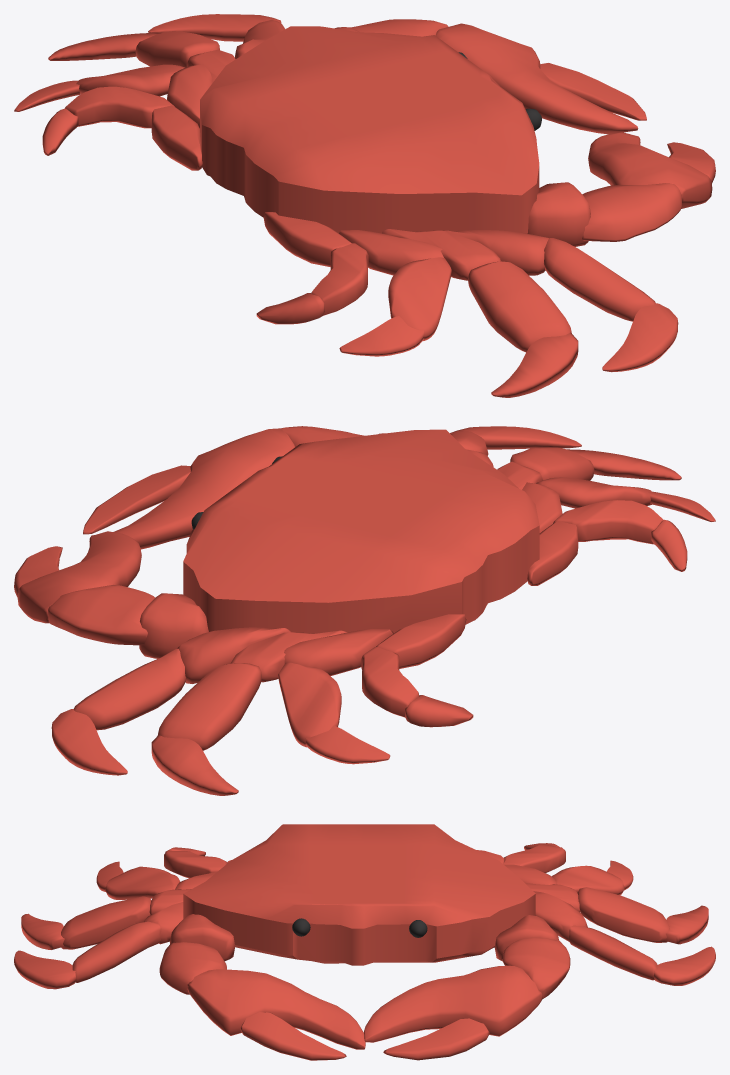
File: Crab.fbx
The picture shows the model from 3 angles, top to bottom: view 1: azimuth 30°, elevation 25°; view 2: azimuth 150°, elevation 25°; view 3: azimuth 270°, elevation 25°; orthographic projection. The views are drawn at different scales.
Parts seen in each view (by area): view 1: polySurface20; view 2: polySurface20; view 3: polySurface20.
Boxes of the visible parts, <box> form: polySurface20: <box>14,14,715,397</box>; polySurface20: <box>14,426,715,795</box>; polySurface20: <box>14,824,715,1060</box>.
Size of the model in its own units: 4.53 by 0.9876 by 6.99.
